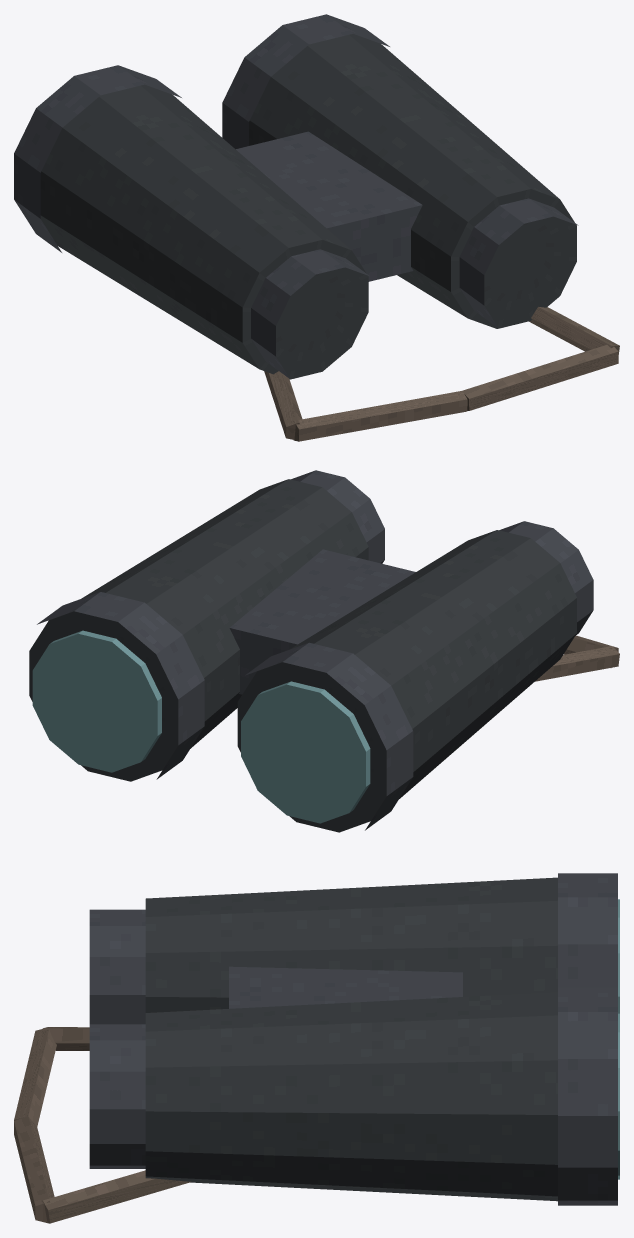
The model's file is binoculars.glb.
3 views of the same model, one above another, from view 1: azimuth 30°, elevation 25°; view 2: azimuth 150°, elevation 25°; view 3: azimuth 270°, elevation 25° (orthographic). The views are drawn at different scales.
Visible parts, largest first — view 1: block_optical barrel (×2), block_hinged bridge, block_objective flange (×2), block_eyecup (×2), block_neck strap 1, block_neck strap 2, block_neck strap 3, block_neck strap 0; view 2: block_optical barrel (×2), block_objective lens (×2), block_objective flange (×2), block_hinged bridge, block_eyecup (×2), block_neck strap 0; view 3: block_optical barrel (×2), block_objective flange (×2), block_eyecup (×2), block_hinged bridge, block_neck strap 3, block_neck strap 2, block_neck strap 1, block_neck strap 0.
Part boxes in pixels (bbox=[...]): block_optical barrel (×2): bbox=[40, 34, 576, 379]; block_hinged bridge: bbox=[236, 131, 422, 281]; block_objective flange (×2): bbox=[14, 14, 389, 252]; block_eyecup (×2): bbox=[251, 198, 578, 379]; block_neck strap 1: bbox=[293, 391, 467, 441]; block_neck strap 2: bbox=[462, 343, 618, 410]; block_neck strap 3: bbox=[529, 307, 619, 354]; block_neck strap 0: bbox=[264, 371, 302, 439]; block_optical barrel (×2): bbox=[29, 479, 576, 832]; block_objective lens (×2): bbox=[32, 630, 370, 823]; block_objective flange (×2): bbox=[37, 592, 413, 830]; block_hinged bridge: bbox=[229, 549, 415, 694]; block_eyecup (×2): bbox=[291, 470, 593, 635]; block_neck strap 0: bbox=[535, 646, 619, 681]; block_optical barrel (×2): bbox=[145, 877, 557, 1201]; block_objective flange (×2): bbox=[558, 873, 617, 1205]; block_eyecup (×2): bbox=[89, 909, 145, 1168]; block_hinged bridge: bbox=[229, 966, 462, 1008]; block_neck strap 3: bbox=[42, 1170, 190, 1223]; block_neck strap 2: bbox=[14, 1116, 54, 1223]; block_neck strap 1: bbox=[14, 1027, 56, 1126]; block_neck strap 0: bbox=[42, 1027, 89, 1050].
Size of the model in its own units: 0.12 by 0.0535 by 0.15.
Materials: 1 (1 with a texture image).
